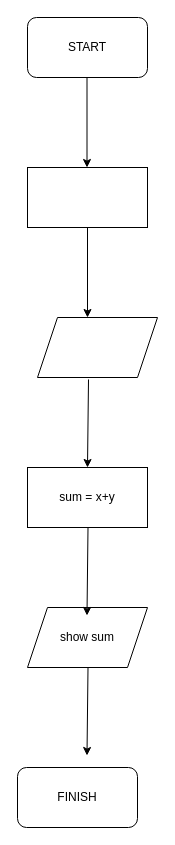
Some shapes in this 175 by 845 pixel diagram are drawn without their labels. The centre of each missing label's shape, as x and y in pixels:
int x=10 int y=20: pixel 97 347
sum = 0: pixel 87 197
